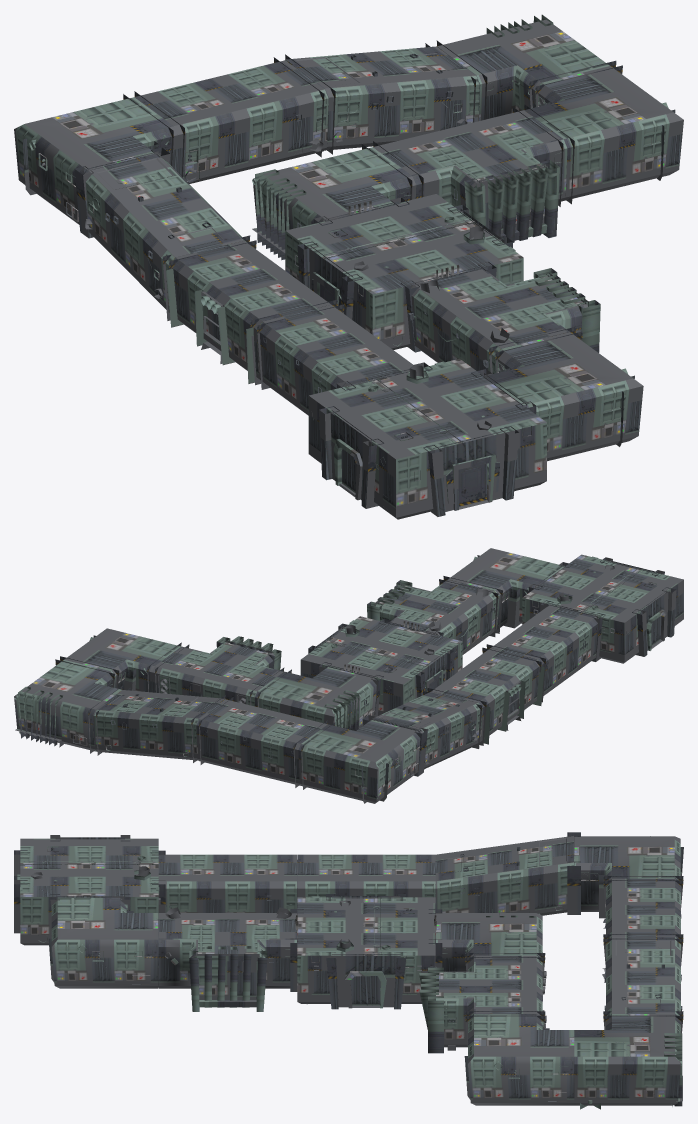
Rendered from Combined_Mesh_root_scene_b20ae4d5__zombies2_diffuse_06_4771cff4_c1f257.obj.
3 renders of one model, top to bottom at view 1: azimuth 30°, elevation 25°; view 2: azimuth 150°, elevation 25°; view 3: azimuth 270°, elevation 25°, orthographic. The views are drawn at different scales.
Size of the model in its own units: 77.06 by 11.5 by 96.9.
Materials: 233 (233 with a texture image).
